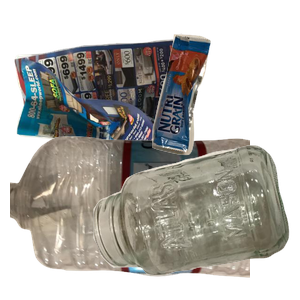glass: (91, 143, 300, 300)
paper: (12, 31, 196, 204)
plastic: (10, 134, 250, 300)
trash: (149, 31, 300, 179)
